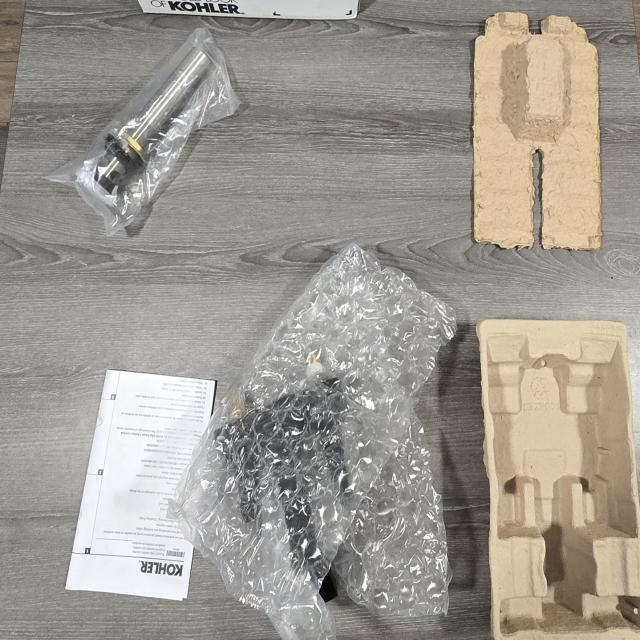11: (47, 28, 238, 236)
8: (66, 370, 215, 600)
9c: (161, 245, 455, 640)
